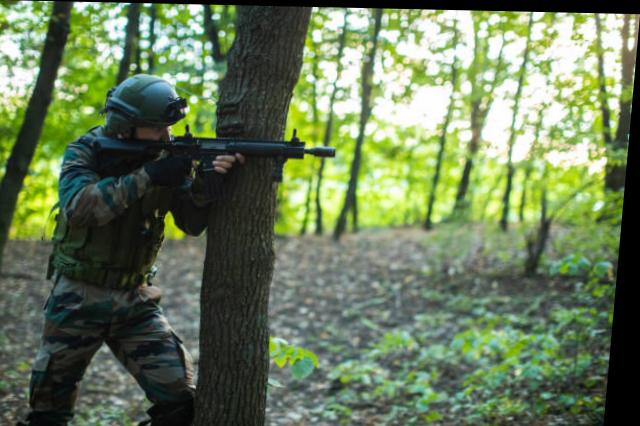other: (31, 79, 230, 424)
